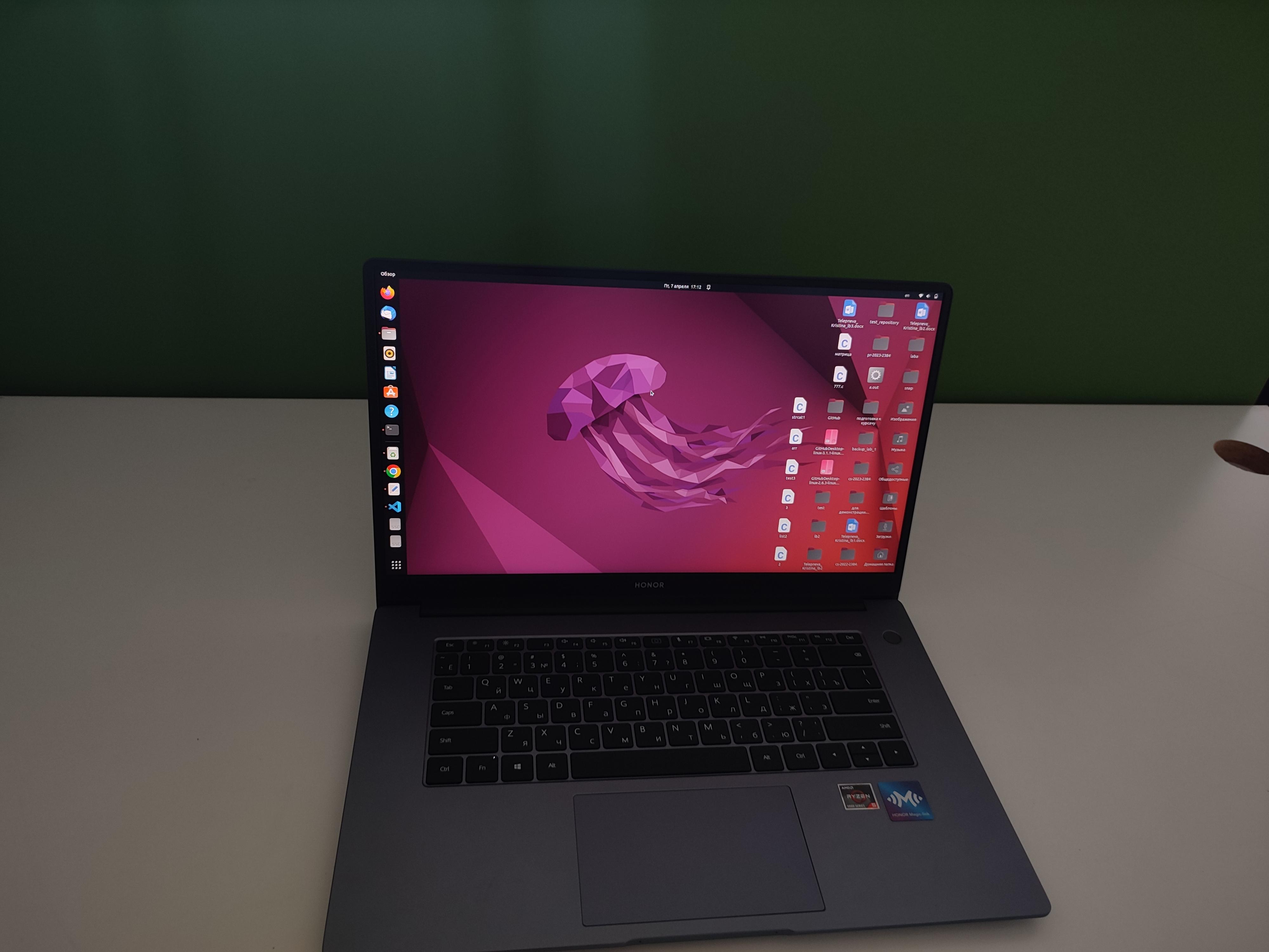monitor: (352, 243, 961, 635)
